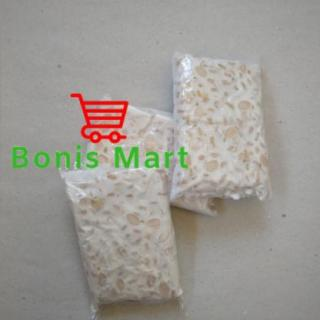Tempe: (61, 167, 187, 310), (168, 53, 274, 209)
